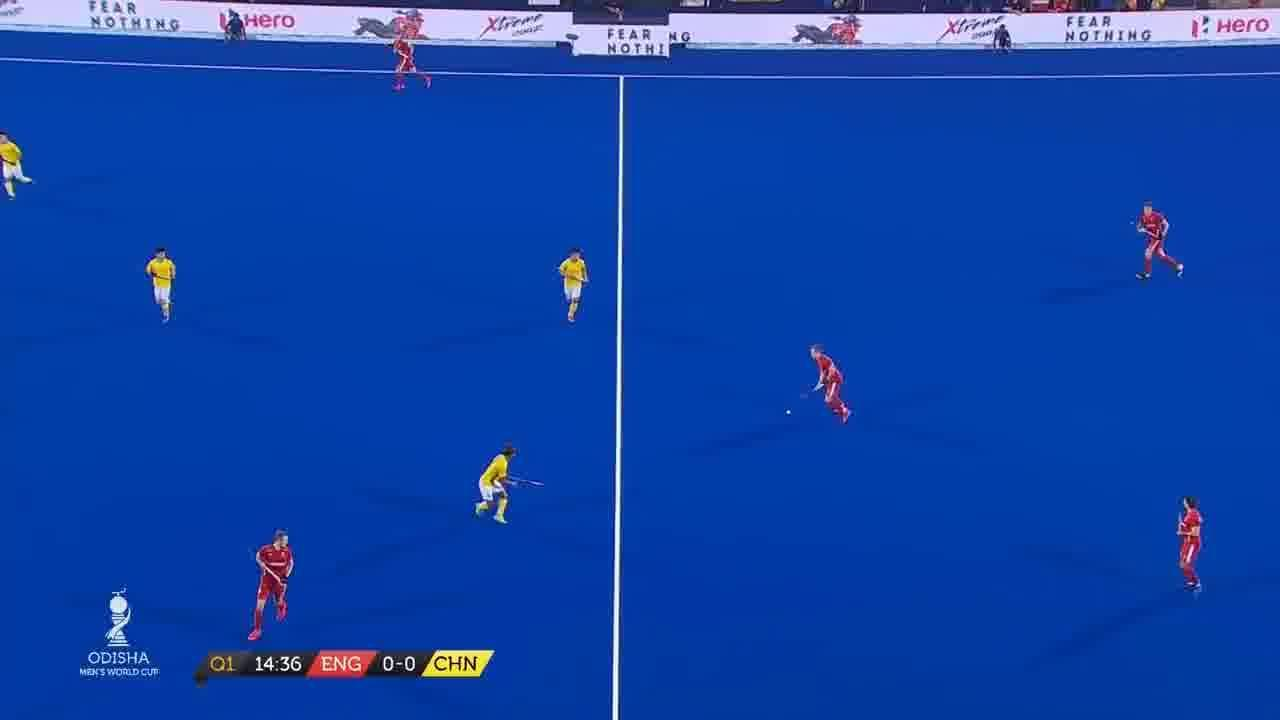ball: (774, 405, 806, 423)
